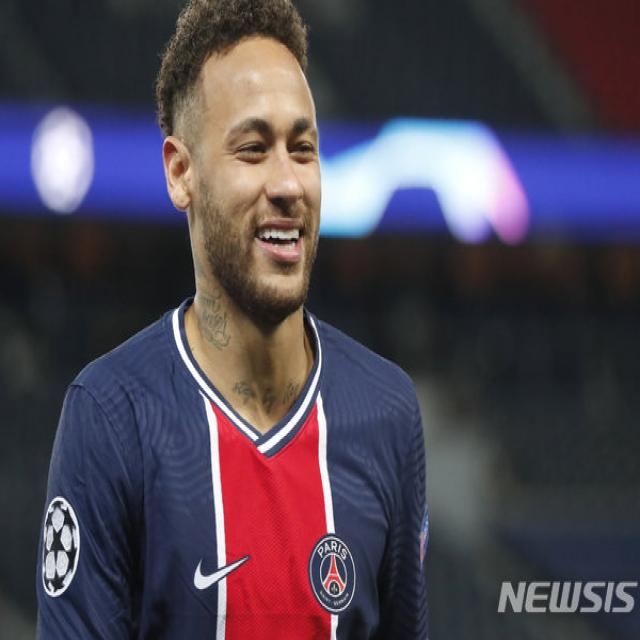neymar: (159, 0, 324, 325)
